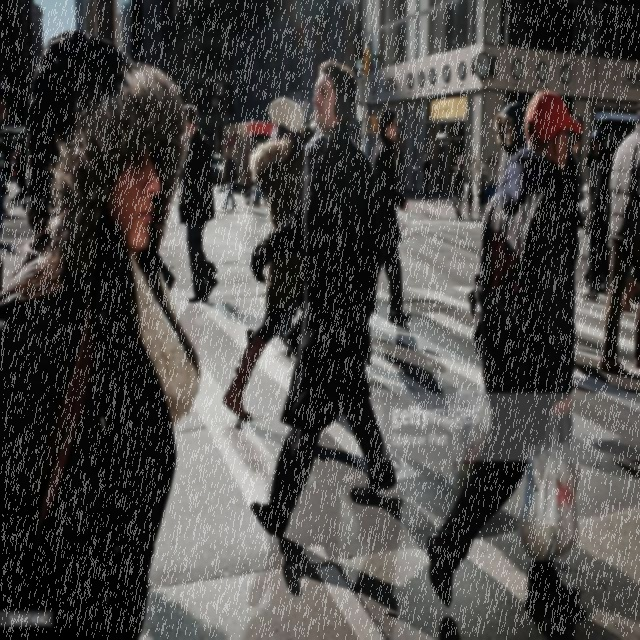pessoa: (0, 22, 208, 640), (424, 86, 586, 614), (245, 54, 403, 546), (247, 479, 638, 638), (220, 95, 308, 422), (374, 331, 474, 480), (596, 91, 640, 378), (370, 106, 412, 326), (566, 362, 640, 482), (177, 103, 220, 305), (578, 126, 611, 302), (562, 125, 588, 269), (492, 100, 530, 158), (0, 97, 10, 298), (589, 112, 625, 162), (240, 150, 268, 211), (220, 142, 240, 215), (8, 142, 28, 208), (14, 141, 28, 210), (475, 158, 490, 220), (452, 162, 466, 220), (452, 163, 466, 213), (422, 152, 432, 202), (466, 180, 475, 220), (487, 174, 498, 204)
